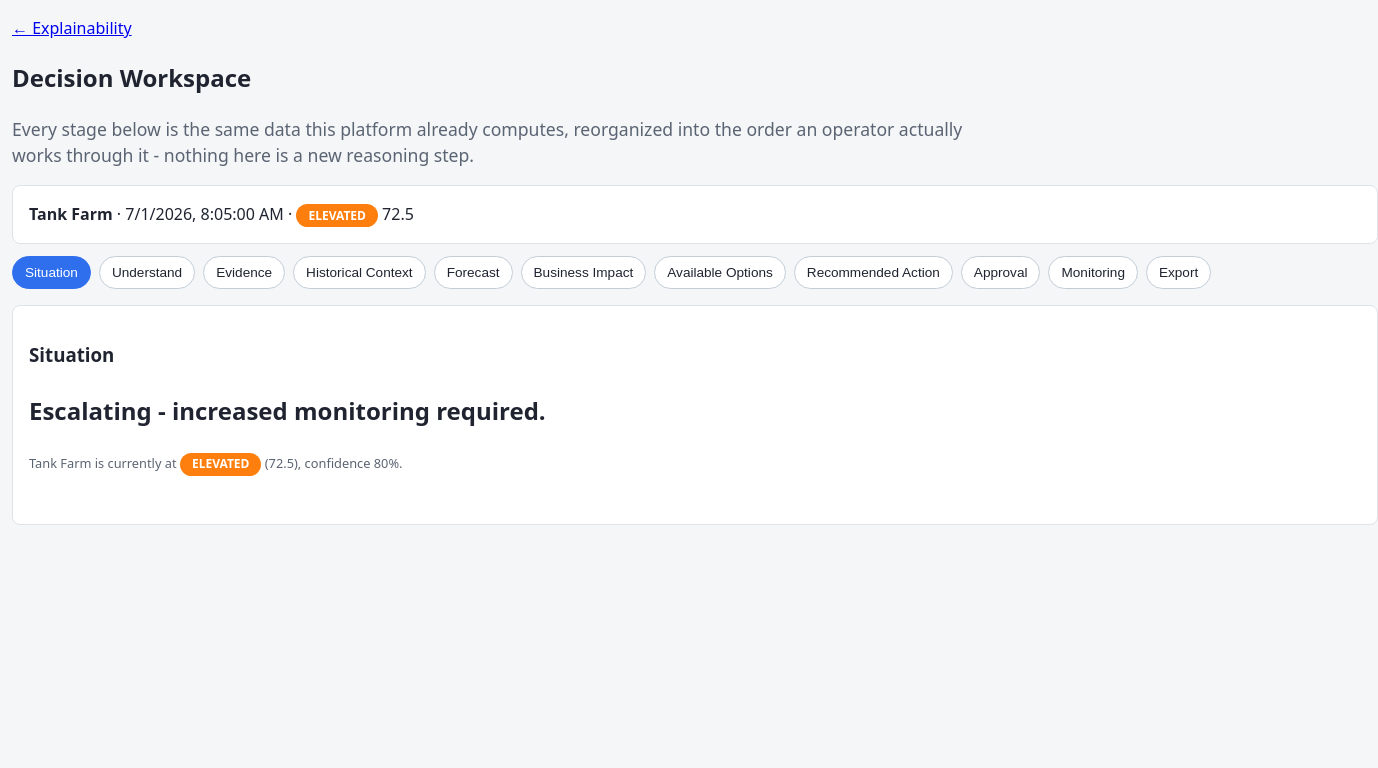
DecisionWorkspacePage › lets an operator acknowledge the decision locally and undo it
Expected: the heading "Situation" is shown, [29,342,114,367]
Click the button "Approval" at [1001, 272], box [961,256,1040,289]
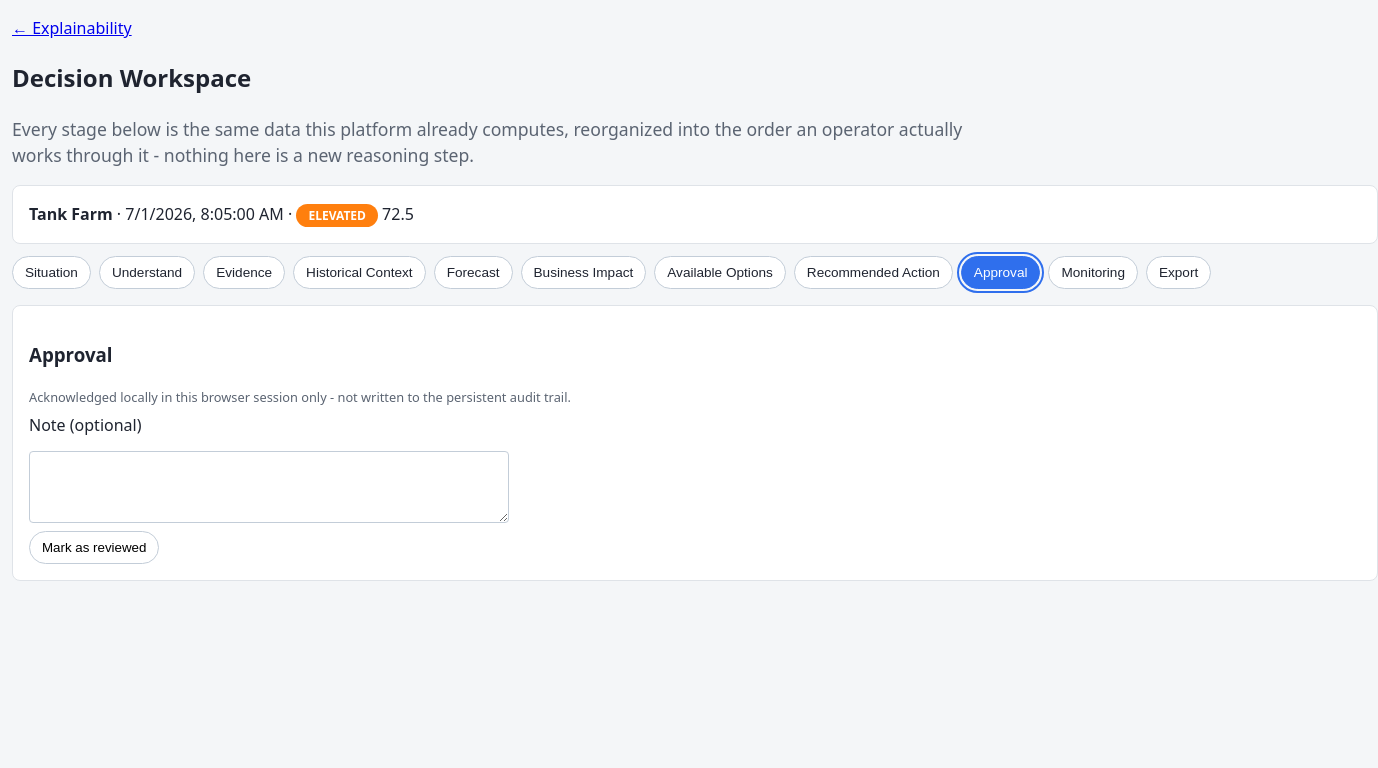
Now the button "Mark as reviewed" is shown
Click the button "Mark as reviewed" at [94, 548], box [29,532,160,564]
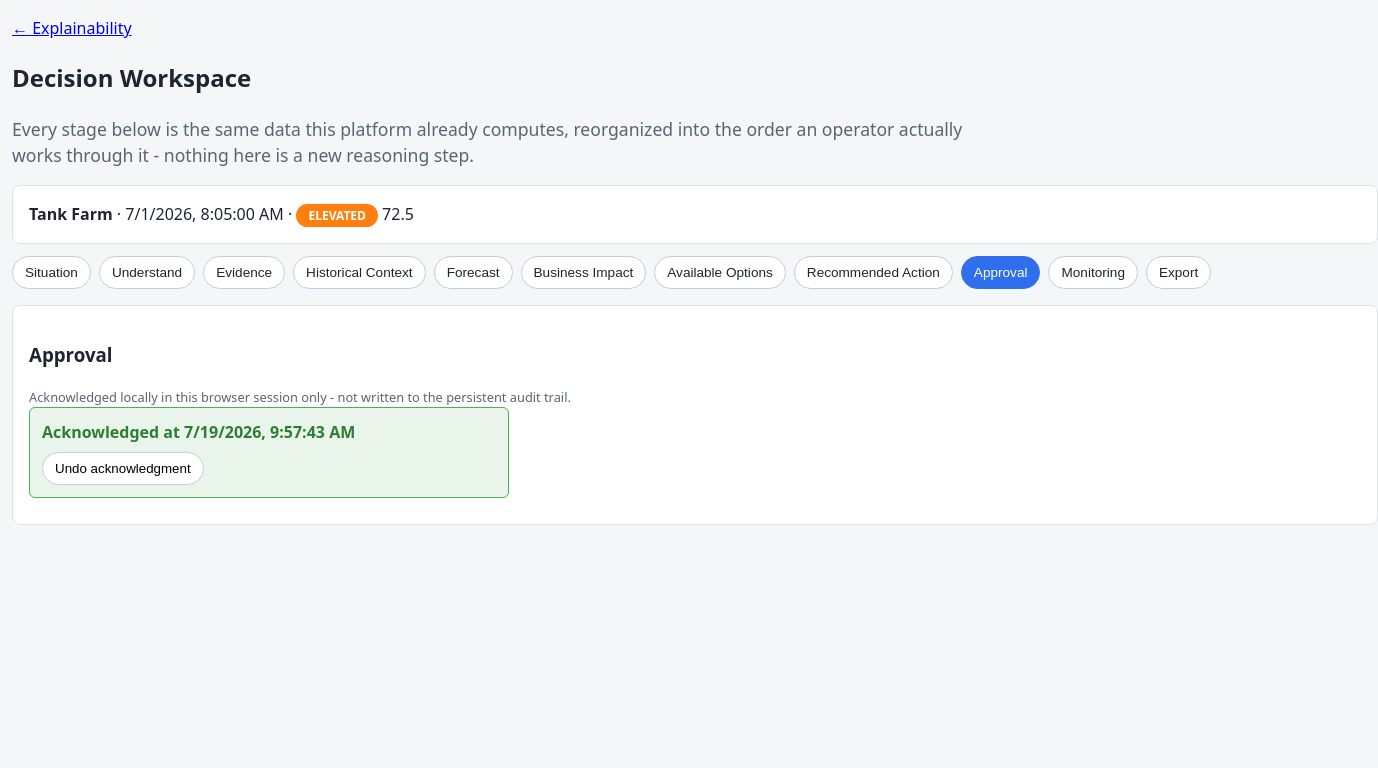
Now the text "Acknowledged at 7/19/2026, 9:57:43 AM" is shown, box [42,421,355,443]
Click the button "Undo acknowledgment" at [123, 468], box [42,452,204,485]
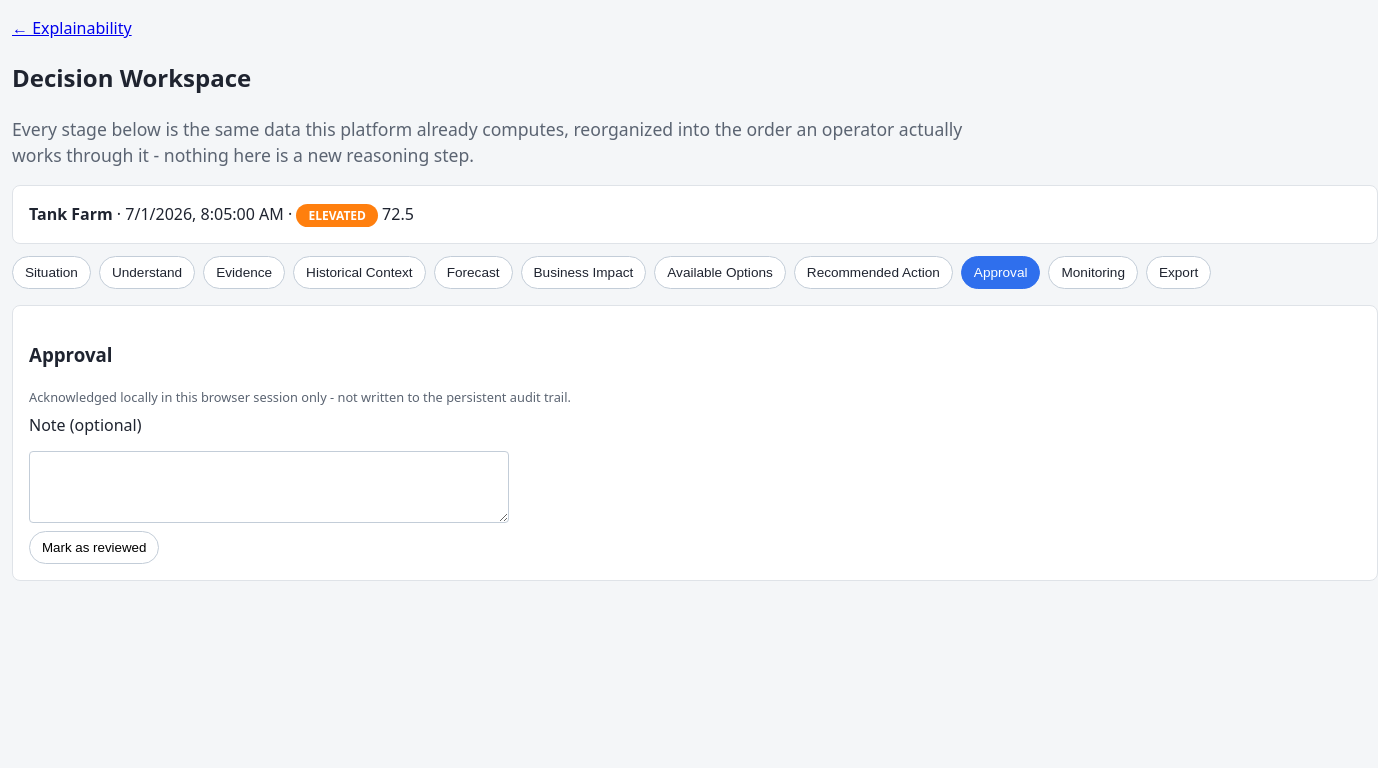
Now the button "Mark as reviewed" is shown, box [29,532,160,564]
